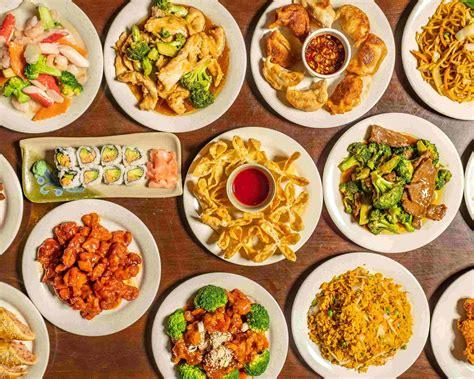Braised Crucian Carp: (321, 112, 463, 252), (183, 124, 323, 263), (20, 199, 159, 338), (247, 0, 394, 130), (103, 0, 245, 134), (289, 251, 431, 378), (149, 271, 289, 377), (1, 0, 105, 135), (12, 128, 190, 205)
